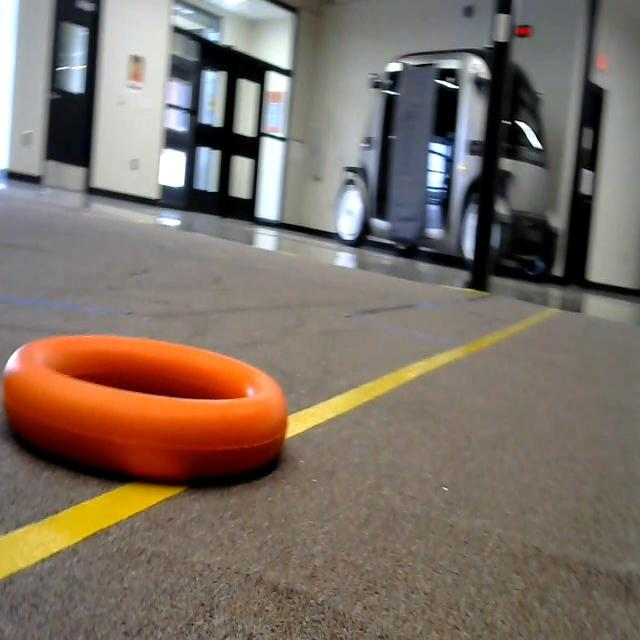note: (0, 298, 308, 504)
